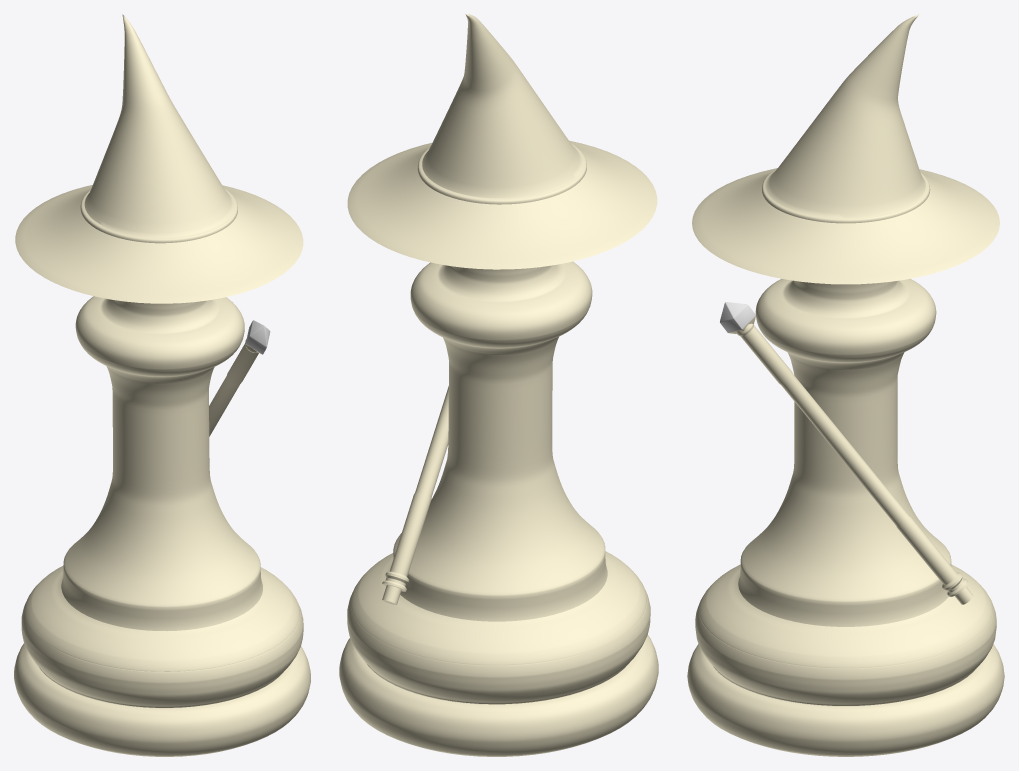
File: Wizard.fbx
3 renders of one model, left to right at view 1: azimuth 30°, elevation 25°; view 2: azimuth 150°, elevation 25°; view 3: azimuth 270°, elevation 25°, orthographic. The views are drawn at different scales.
Visible parts, largest first — view 1: Wizard; view 2: Wizard; view 3: Wizard.
Boxes of the visible parts, bbox=[...] form: Wizard: bbox=[14, 14, 310, 756]; Wizard: bbox=[339, 14, 658, 756]; Wizard: bbox=[687, 14, 1004, 756].
Bounding box in the file's own units: 172 × 428 × 179.
